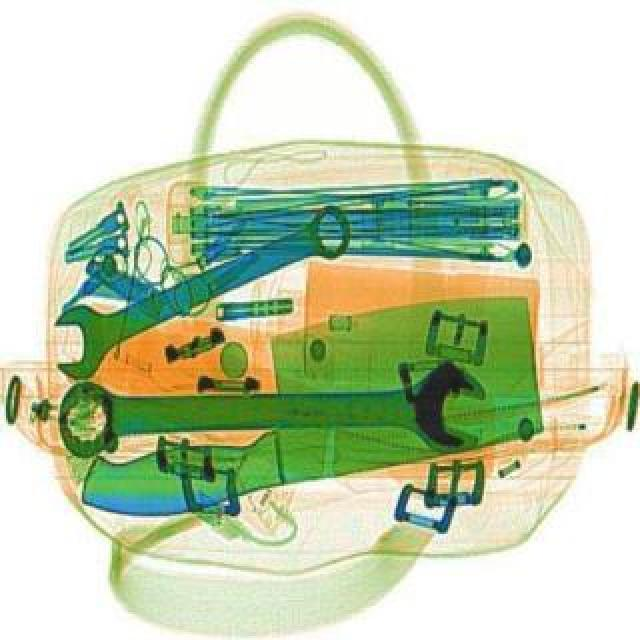knife: (54, 278, 562, 530)
scissors: (38, 188, 370, 384), (60, 360, 488, 460)
